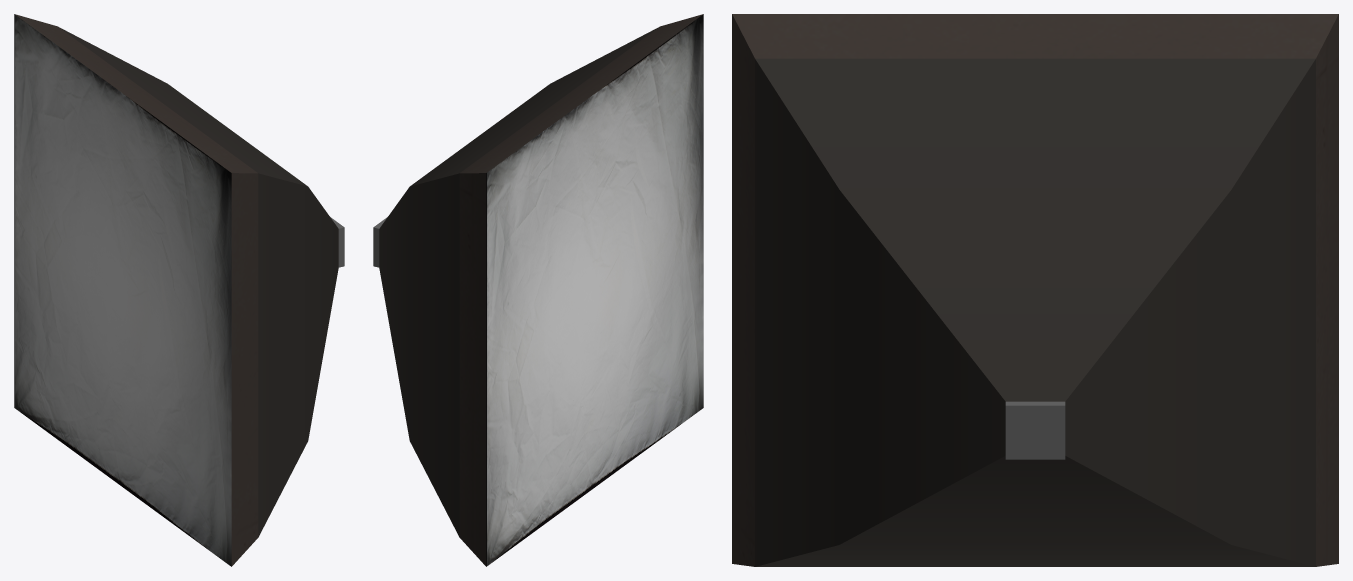
Rendered from GYM_Studio_Light_1.fbx.
The picture shows the model from 3 angles, left to right: view 1: azimuth 30°, elevation 25°; view 2: azimuth 150°, elevation 25°; view 3: azimuth 270°, elevation 25°; orthographic projection. The views are drawn at different scales.
Parts seen in each view (by area): view 1: GYM_Studio_Light_1; view 2: GYM_Studio_Light_1; view 3: GYM_Studio_Light_1.
Boxes of the visible parts, x1,y1,x2,y2 form: GYM_Studio_Light_1: (14, 14, 344, 566); GYM_Studio_Light_1: (373, 14, 703, 566); GYM_Studio_Light_1: (732, 14, 1338, 566).
Size of the model in its own units: 0.7484 by 1.34 by 1.34.
4 materials, 2 textured.
